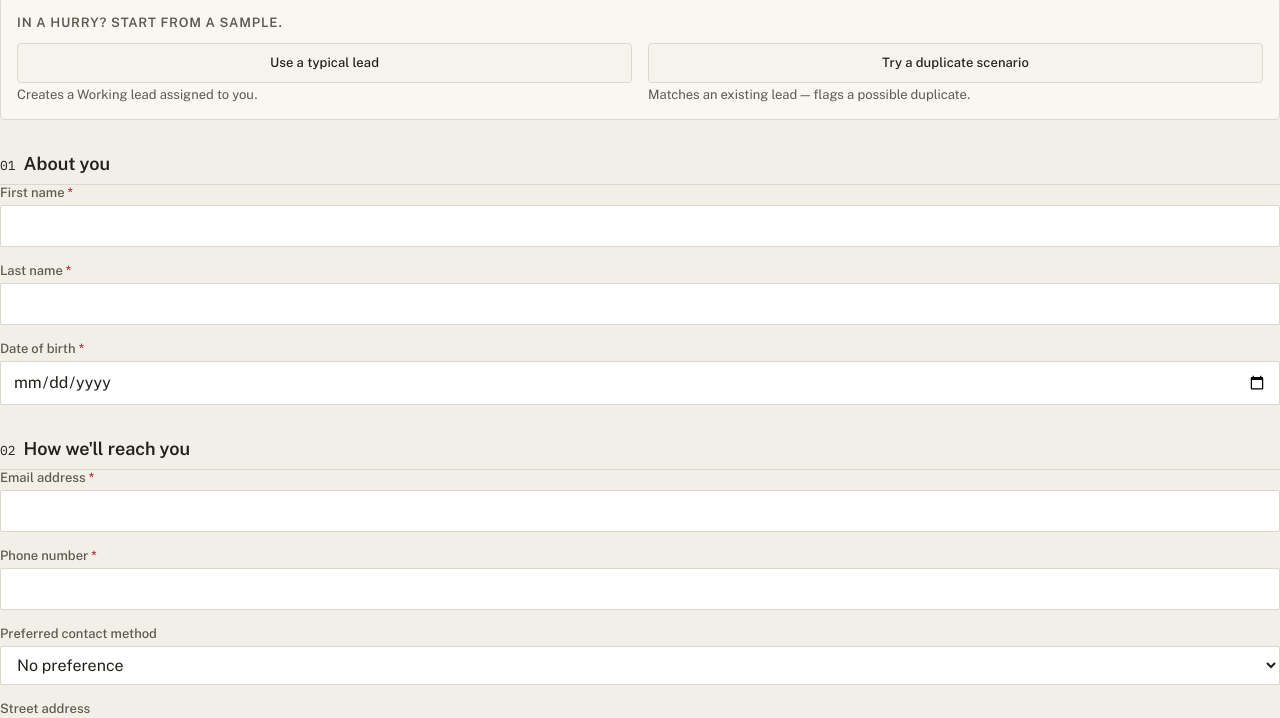
Scenario: AgentIntakeForm submission › shows a form-level error on a failed create and keeps the entered data
Type "Margaret" into the field with id "agent-intake-first-name" at (640, 226), box [0,205,1279,247]
Type "Chen" into the field with id "agent-intake-last-name" at (640, 304), box [0,283,1279,325]
Type "1956-03-12" into the date field with id "agent-intake-date-of-birth" at (640, 383), box [0,361,1279,405]
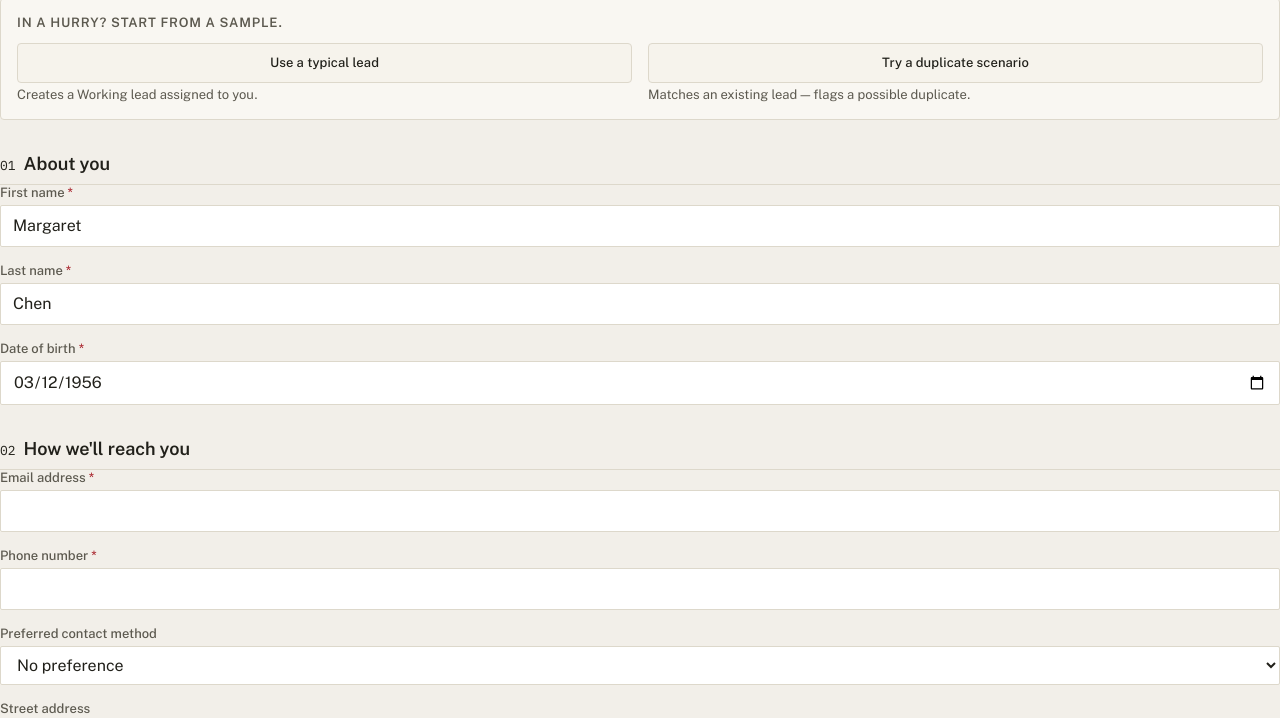
Type "margaret.chen@example.com" into the field with id "agent-intake-email" at (640, 511), box [0,490,1279,532]
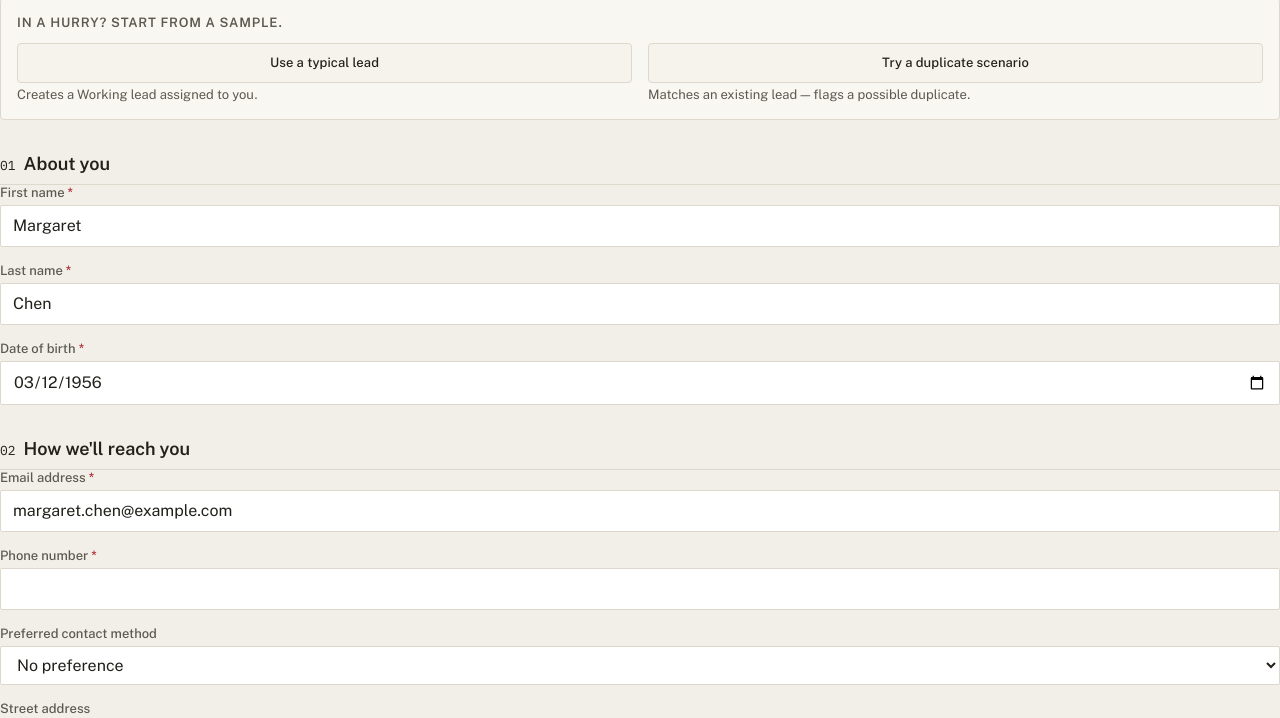
Type "(305) 555-0149" into the field with id "agent-intake-phone" at (640, 589), box [0,568,1279,610]
(page scrolled)
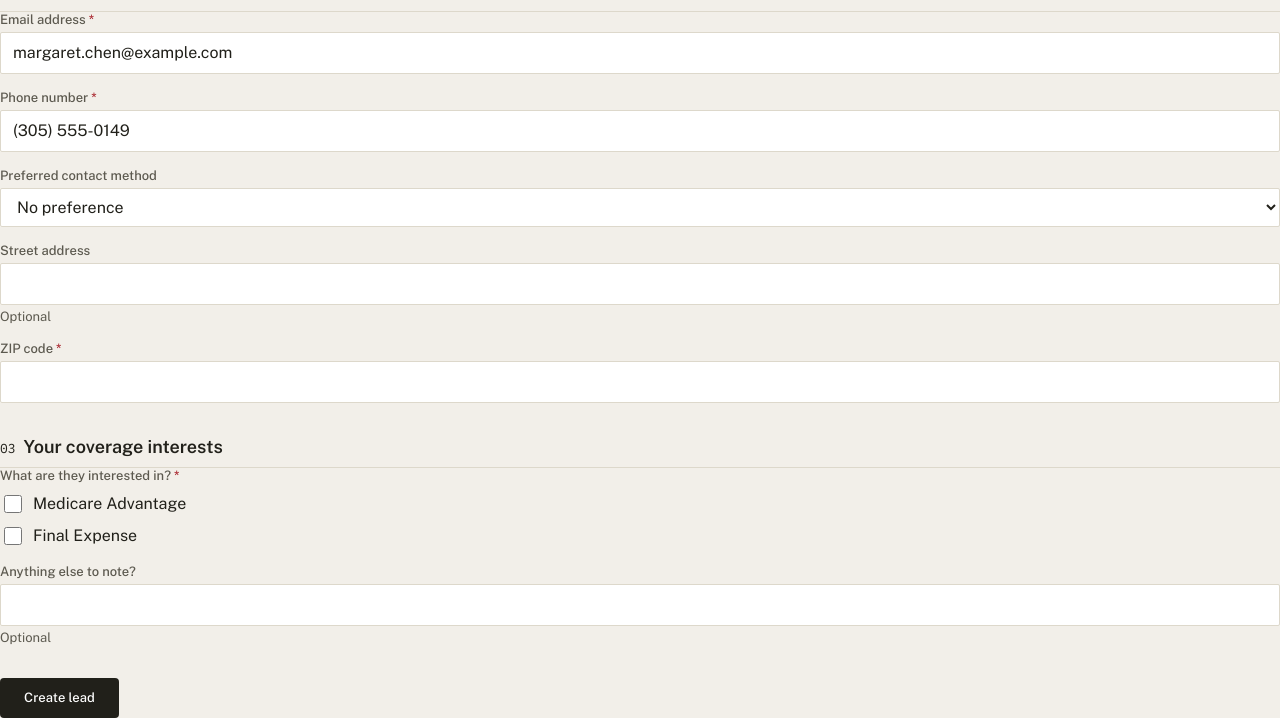
Type "33134" into the field with id "agent-intake-zip-code" at (640, 382), box [0,361,1279,403]
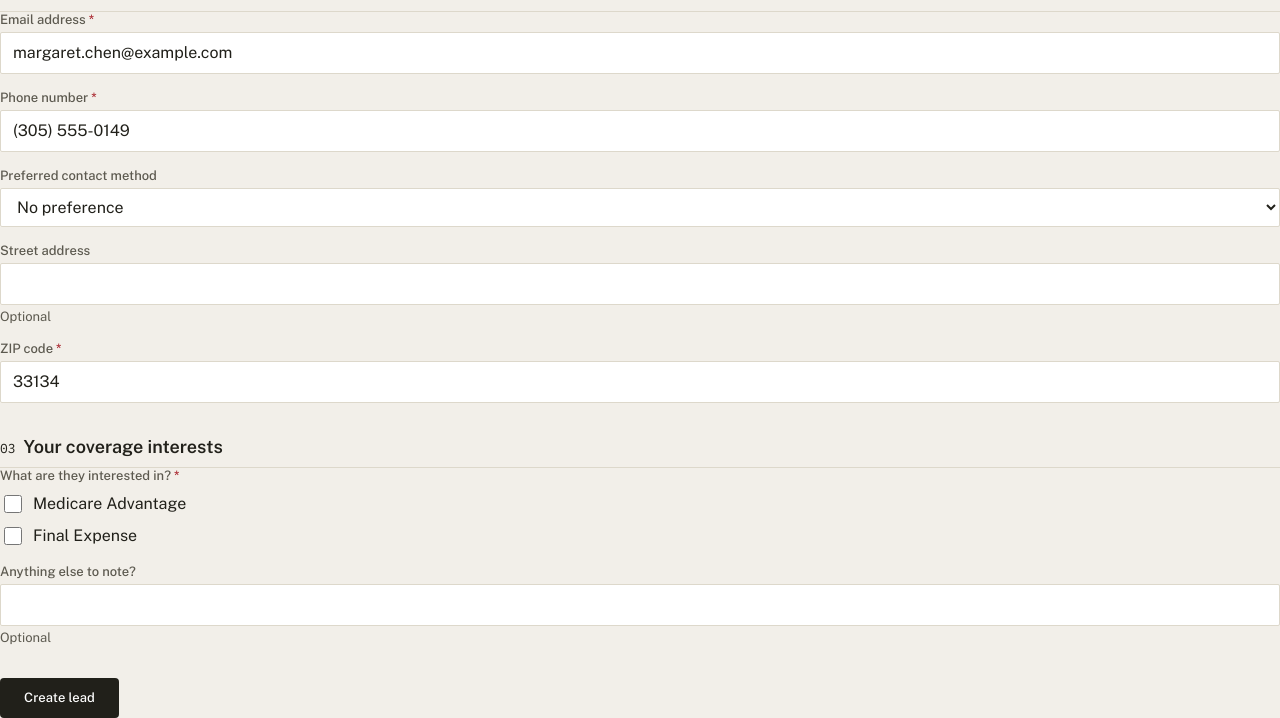
Click the checkbox with id "agent-intake-product-lines-option-medicare_advantage" at (13, 504), box [4,495,22,513]
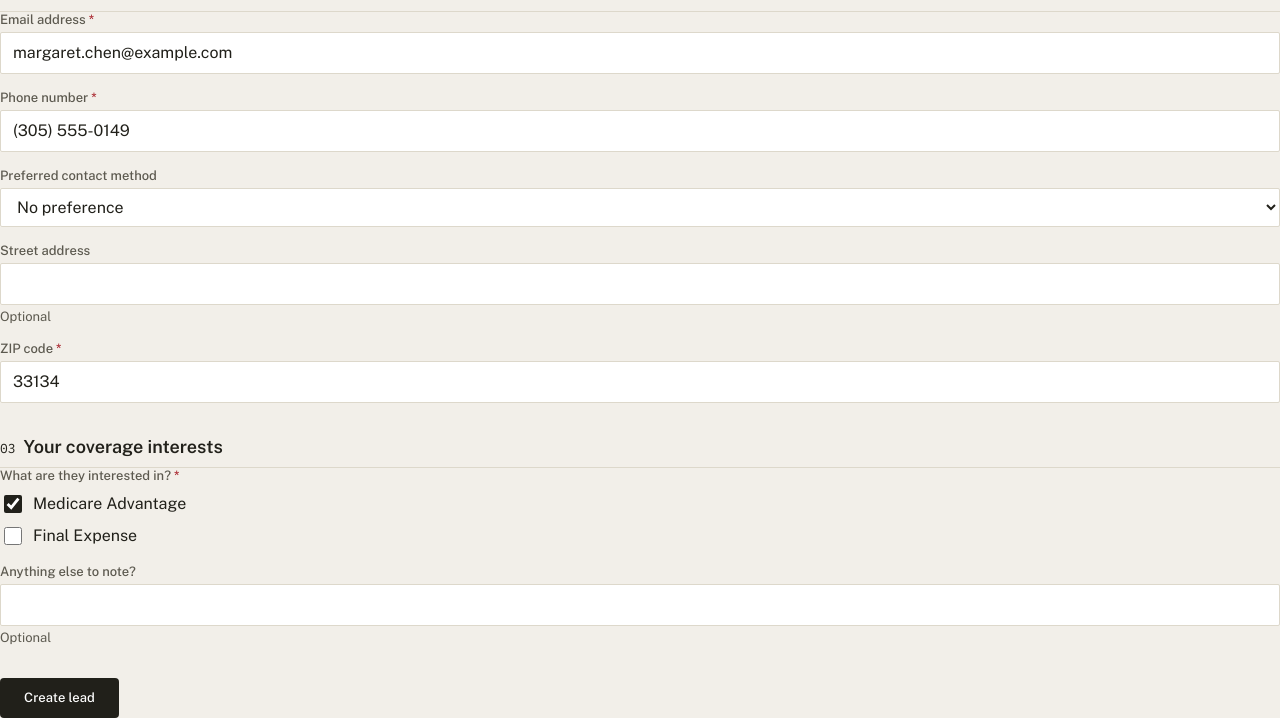
Click the button with id "agent-intake-submit" at (60, 698), box [0,678,119,717]
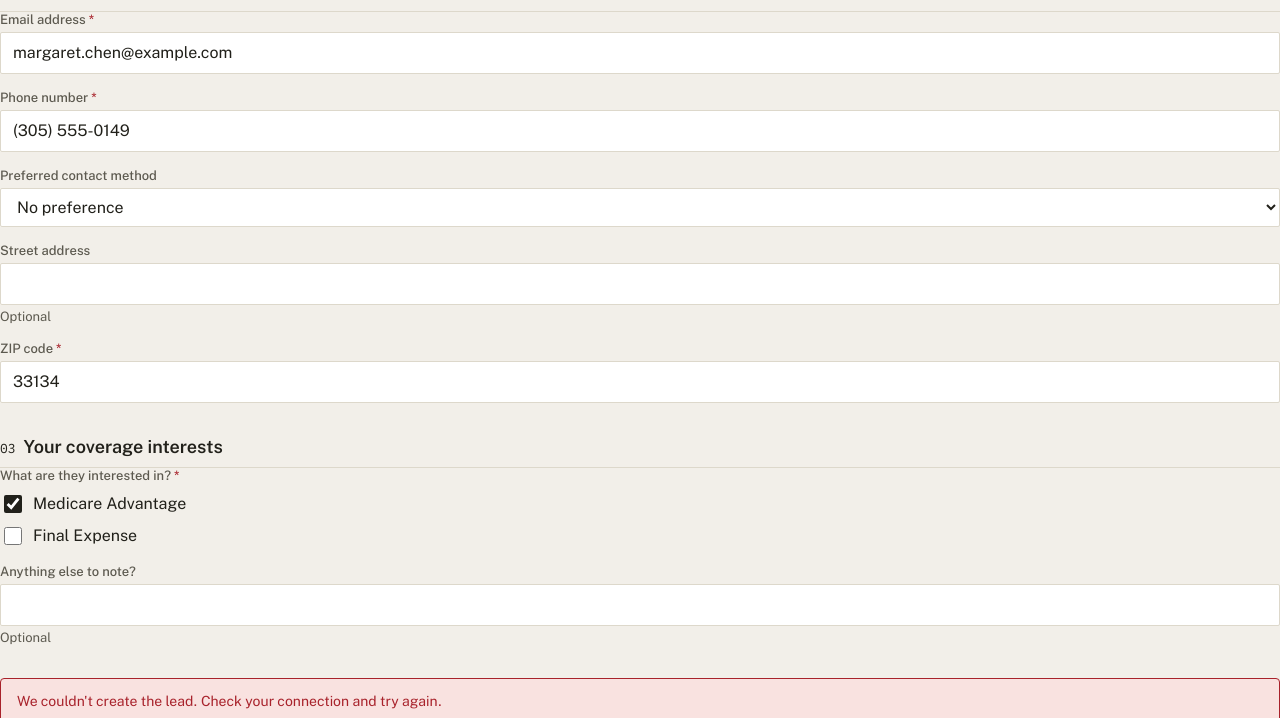
expect the message with id "agent-intake-submit-error" shows "We couldn't create the lead": met, box [17,693,442,709]
